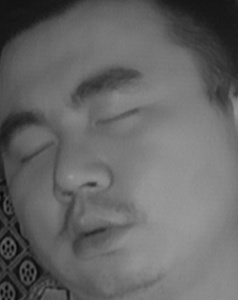blink: (93, 98, 144, 131), (13, 134, 56, 167)
mouth: (53, 206, 135, 260)
